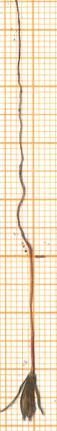flower: (0, 367, 51, 431)
root: (12, 0, 35, 256)
stem: (26, 256, 46, 371)
